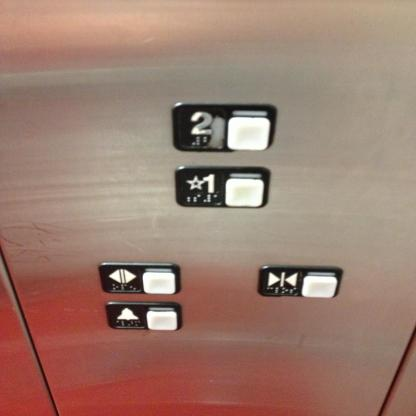2: (169, 101, 280, 154)
alarm: (104, 300, 185, 332)
close: (255, 263, 345, 299)
open: (97, 261, 181, 296)
s1: (172, 163, 273, 210)
